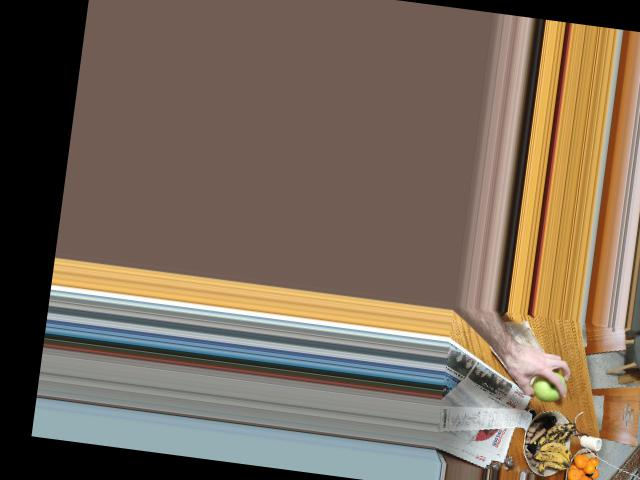apple: (529, 369, 569, 403)
